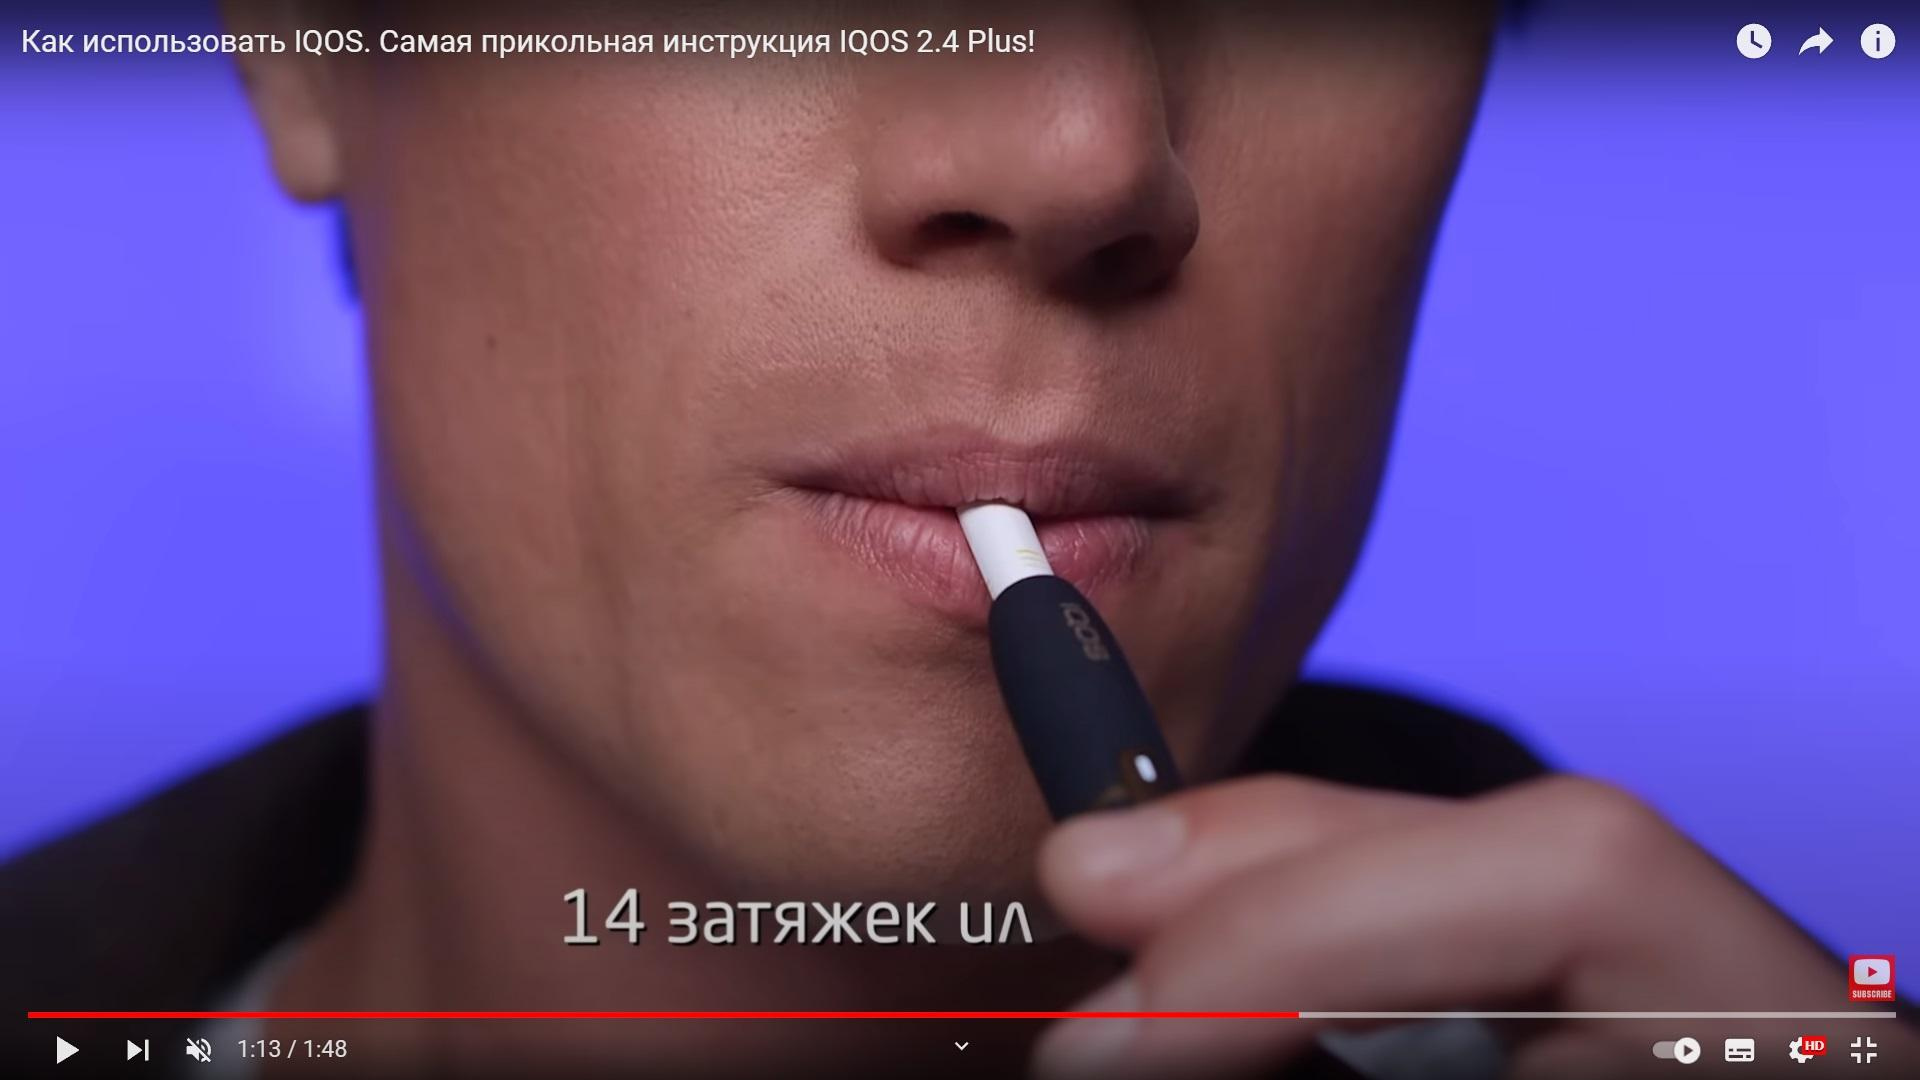iqos: (956, 504, 1182, 820)
